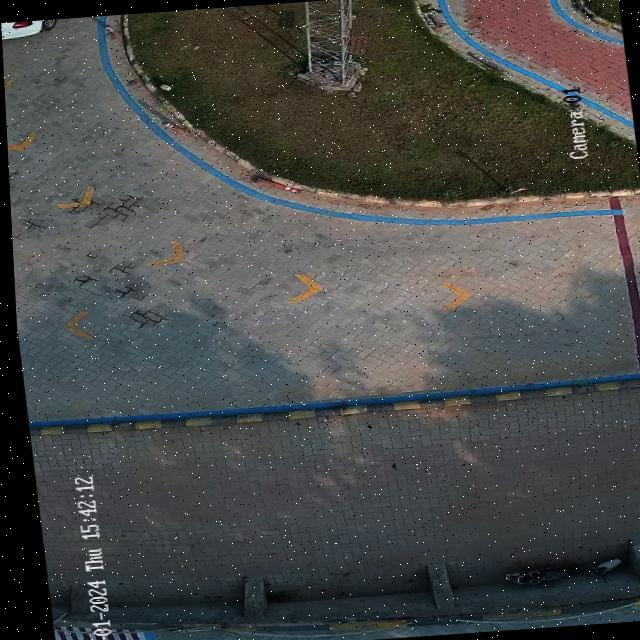car: (1, 17, 61, 40)
